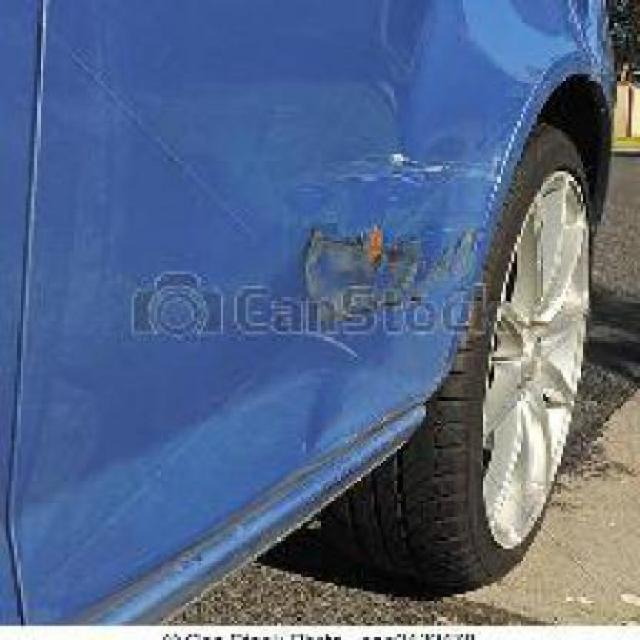dent-or-scratch: (340, 150, 494, 210)
